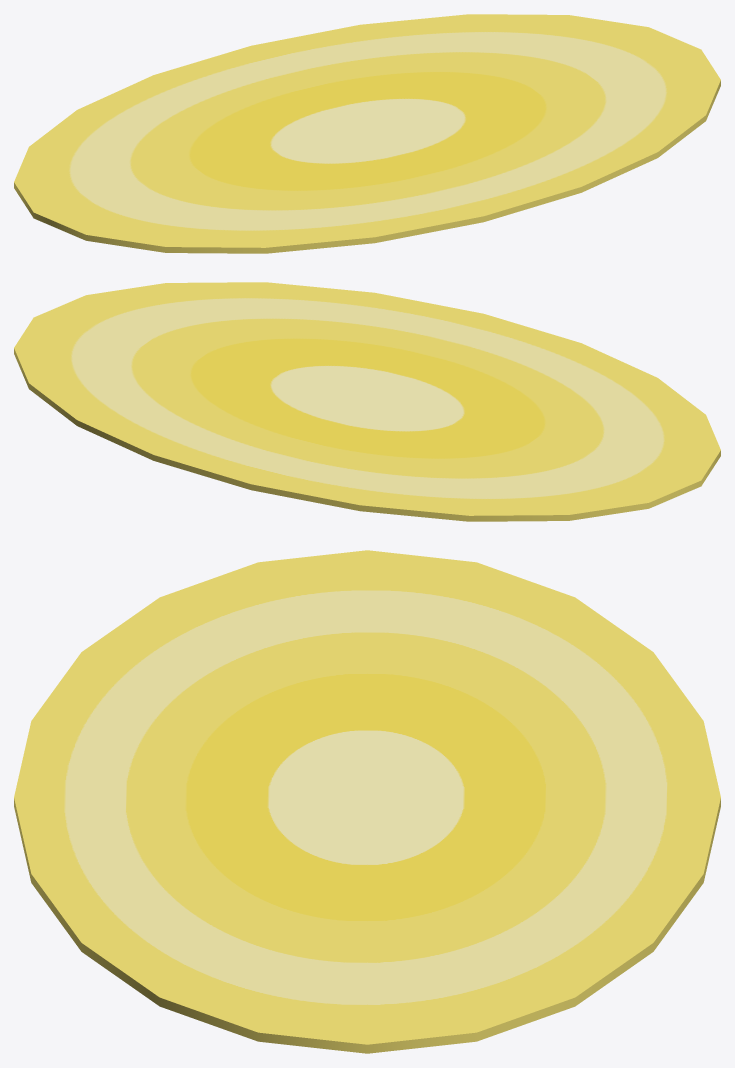
Rendered from Rug.fbx.
The picture shows the model from 3 angles, top to bottom: view 1: azimuth 30°, elevation 25°; view 2: azimuth 150°, elevation 25°; view 3: azimuth 270°, elevation 25°; orthographic projection. The views are drawn at different scales.
Visible parts, largest first — view 1: Rug; view 2: Rug; view 3: Rug.
Boxes of the visible parts, x1,y1,x2,y2 form: Rug: (14, 14, 720, 253); Rug: (14, 282, 720, 521); Rug: (14, 550, 720, 1053).
Size of the model in its own units: 367 by 3.13 by 222.
Materials: 1 (1 with a texture image).
